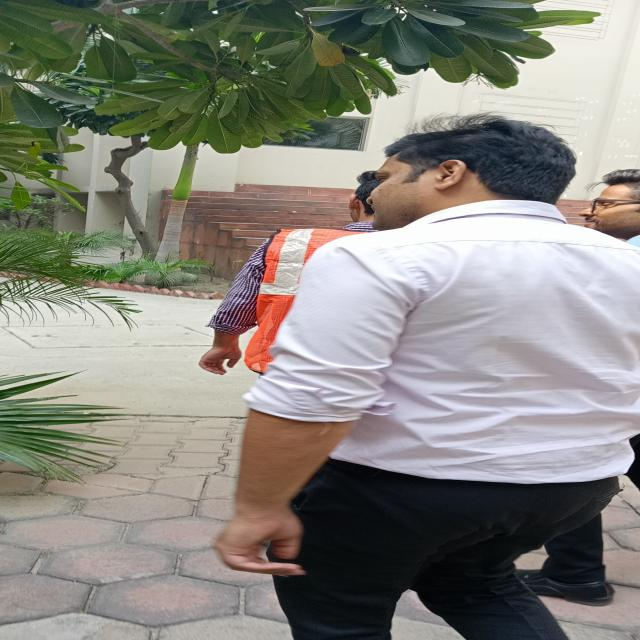unsafe: (240, 116, 613, 633)
